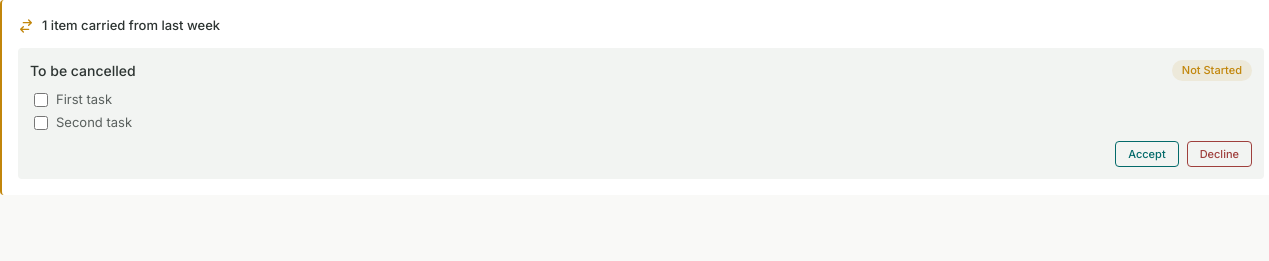
Test: CarryForwardPanel › decline interaction › cancels decline and restores Accept/Decline buttons when Cancel is clicked
Click the button "Decline": (1219, 154) x1=1187 y1=141 x2=1252 y2=167
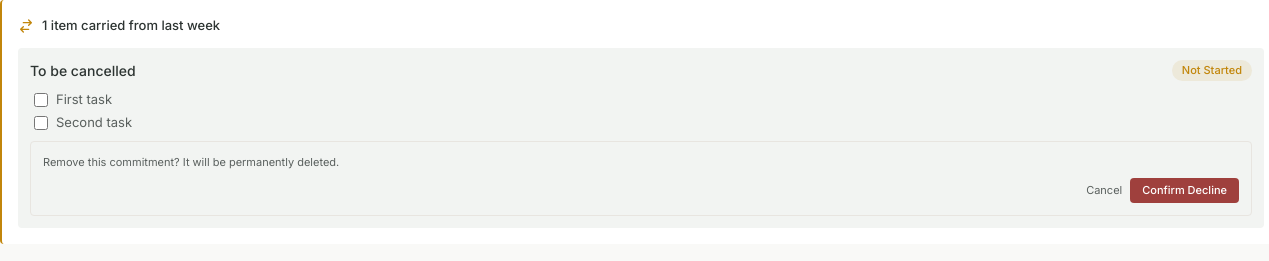
Click the button "Cancel": (1104, 191) x1=1086 y1=182 x2=1122 y2=199
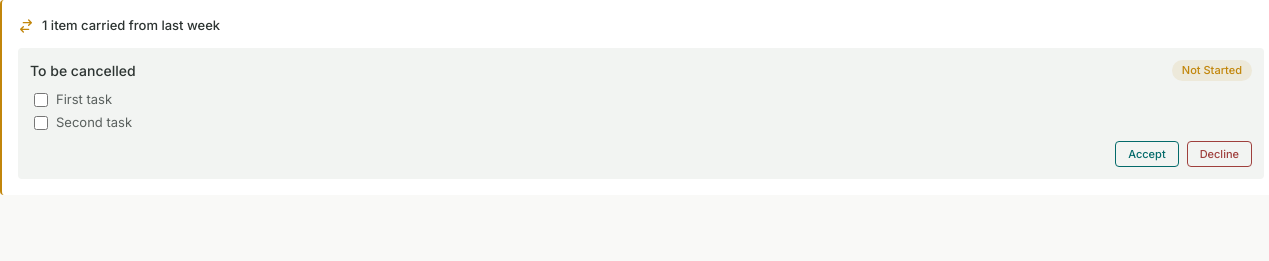
expect the button "Decline" is shown: met, box x1=1187 y1=141 x2=1252 y2=167
expect the button "Accept" is shown: met, box x1=1115 y1=141 x2=1179 y2=167
